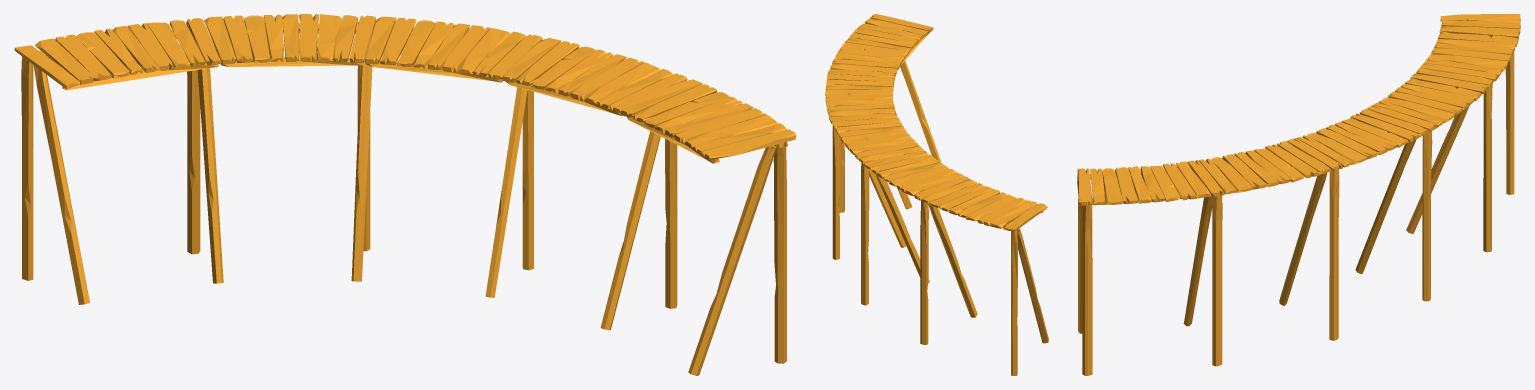
Rendered from SM_Palisade_Gallery_Corner_Round_9x9_Concave_A.fbx.
3 views of the same model, side by side, from view 1: azimuth 30°, elevation 25°; view 2: azimuth 150°, elevation 25°; view 3: azimuth 270°, elevation 25° (orthographic). The views are drawn at different scales.
Parts seen in each view (by area): view 1: palisade-gallery-corner-round-9x9-concave-a; view 2: palisade-gallery-corner-round-9x9-concave-a; view 3: palisade-gallery-corner-round-9x9-concave-a.
Part boxes in pixels (left/top/right/bottom): palisade-gallery-corner-round-9x9-concave-a: left=14, top=14, right=796, bottom=375; palisade-gallery-corner-round-9x9-concave-a: left=825, top=14, right=1048, bottom=375; palisade-gallery-corner-round-9x9-concave-a: left=1077, top=14, right=1520, bottom=375.
Bounding box in the file's own units: 11.05 × 4.84 × 11.01.
